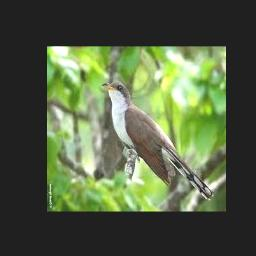Cuckoo: (102, 81, 214, 201)
